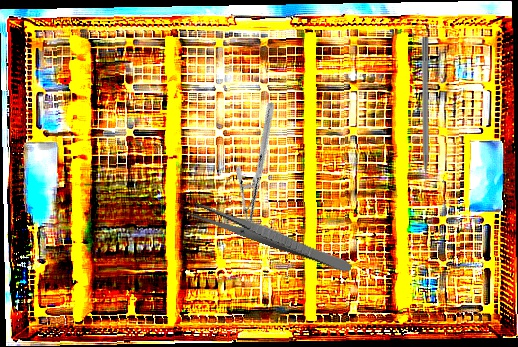Dressing Forceps: (186, 198, 355, 276)
Needle Holder: (206, 101, 313, 240)
Pusher: (420, 37, 429, 194)
